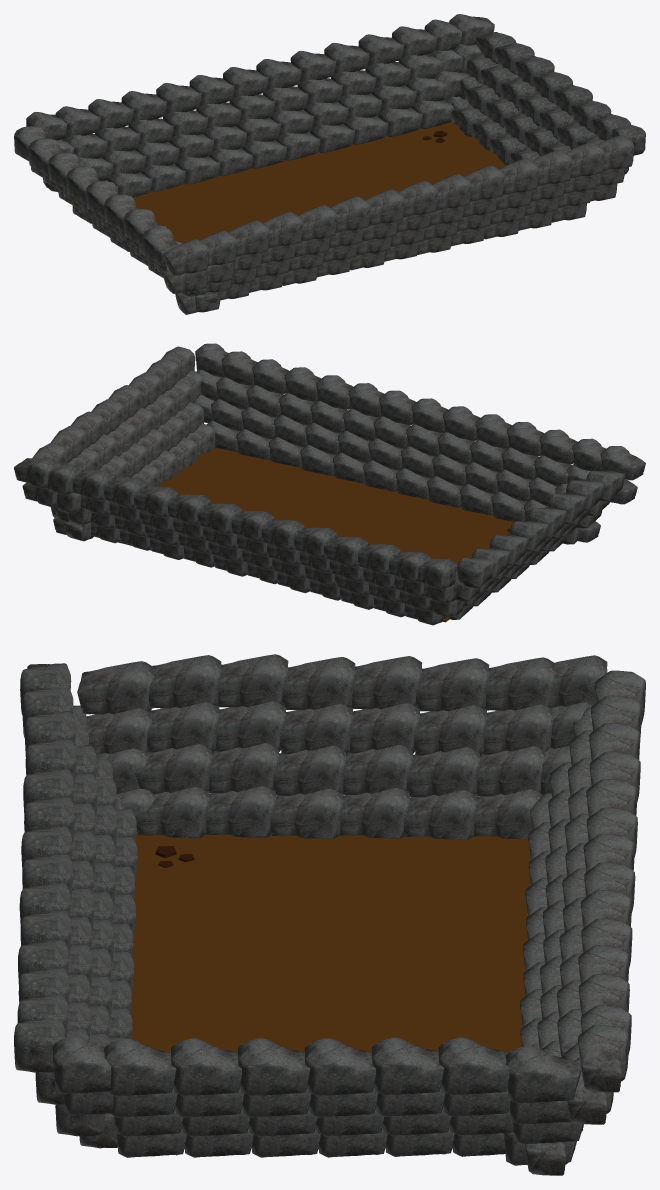
File: ArenaNovayaBNVNov-compressed.glb
The picture shows the model from 3 angles, top to bottom: view 1: azimuth 30°, elevation 25°; view 2: azimuth 150°, elevation 25°; view 3: azimuth 270°, elevation 25°; orthographic projection. The views are drawn at different scales.
Visible parts, largest first — view 1: Cube, SM_LittleRock_012152, SM_LittleRock_012082, SM_LittleRock_012086, SM_LittleRock_012084, SM_LittleRock_012085, SM_LittleRock_012088, SM_LittleRock_012083, SM_LittleRock_012087, SM_LittleRock_012091, SM_LittleRock_012081, SM_LittleRock_012090 (+113 smaller); view 2: Cube, SM_LittleRock_012152, SM_LittleRock_012163, SM_LittleRock_012120, SM_LittleRock_012122, SM_LittleRock_012091, SM_LittleRock_012124, SM_LittleRock_012126, SM_LittleRock_012167, SM_LittleRock_012081, SM_LittleRock_012129, SM_LittleRock_012083 (+106 smaller); view 3: Cube, SM_LittleRock_012141, SM_LittleRock_012137, SM_LittleRock_012139, SM_LittleRock_012138, SM_LittleRock_012136, SM_LittleRock_012140, SM_LittleRock_012160, SM_LittleRock_012135, SM_LittleRock_012159, SM_LittleRock_012155, SM_LittleRock_012157 (+86 smaller).
Boxes of the visible parts, left/top/right/bottom form: Cube: left=133, top=121, right=507, bottom=243; SM_LittleRock_012152: left=163, top=239, right=209, bottom=275; SM_LittleRock_012082: left=366, top=189, right=404, bottom=225; SM_LittleRock_012086: left=500, top=158, right=538, bottom=194; SM_LittleRock_012084: left=298, top=205, right=337, bottom=241; SM_LittleRock_012085: left=532, top=149, right=572, bottom=186; SM_LittleRock_012088: left=433, top=174, right=471, bottom=210; SM_LittleRock_012083: left=330, top=196, right=370, bottom=232; SM_LittleRock_012087: left=465, top=165, right=504, bottom=201; SM_LittleRock_012091: left=228, top=220, right=269, bottom=256; SM_LittleRock_012081: left=398, top=180, right=437, bottom=217; SM_LittleRock_012090: left=263, top=211, right=302, bottom=248; Cube: left=91, top=448, right=513, bottom=622; SM_LittleRock_012152: left=600, top=446, right=645, bottom=480; SM_LittleRock_012163: left=417, top=559, right=456, bottom=589; SM_LittleRock_012120: left=197, top=503, right=241, bottom=534; SM_LittleRock_012122: left=134, top=487, right=177, bottom=517; SM_LittleRock_012091: left=539, top=429, right=577, bottom=464; SM_LittleRock_012124: left=324, top=536, right=367, bottom=567; SM_LittleRock_012126: left=261, top=520, right=304, bottom=551; SM_LittleRock_012167: left=14, top=458, right=59, bottom=488; SM_LittleRock_012081: left=379, top=390, right=416, bottom=424; SM_LittleRock_012129: left=72, top=470, right=114, bottom=501; SM_LittleRock_012083: left=443, top=406, right=479, bottom=440; Cube: left=130, top=833, right=530, bottom=1052; SM_LittleRock_012141: left=505, top=1045, right=581, bottom=1103; SM_LittleRock_012137: left=238, top=1038, right=310, bottom=1096; SM_LittleRock_012139: left=371, top=1037, right=444, bottom=1095; SM_LittleRock_012138: left=304, top=1038, right=375, bottom=1096; SM_LittleRock_012136: left=170, top=1038, right=241, bottom=1096; SM_LittleRock_012140: left=438, top=1037, right=509, bottom=1095; SM_LittleRock_012160: left=77, top=661, right=154, bottom=714; SM_LittleRock_012135: left=104, top=1038, right=176, bottom=1096; SM_LittleRock_012159: left=149, top=655, right=221, bottom=708; SM_LittleRock_012155: left=416, top=658, right=489, bottom=711; SM_LittleRock_012157: left=282, top=657, right=355, bottom=709.
Size of the model in its own units: 34.81 by 5.97 by 22.64.
3 materials, 1 textured.
